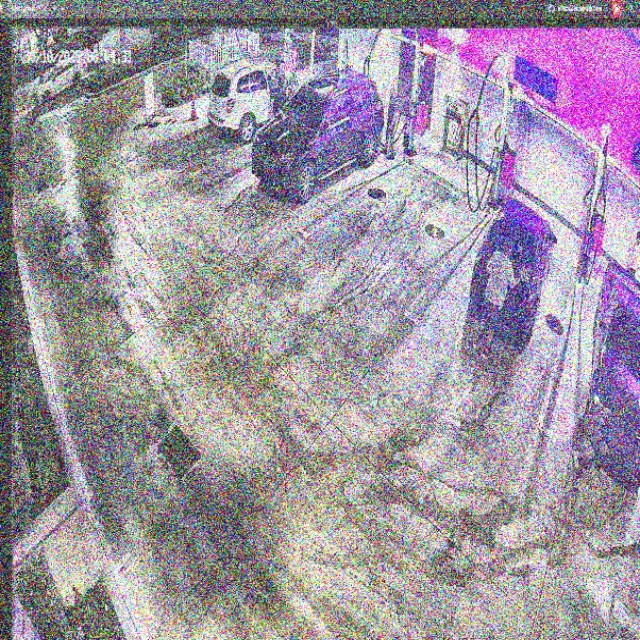Car: (250, 70, 385, 200), (469, 198, 555, 342)
